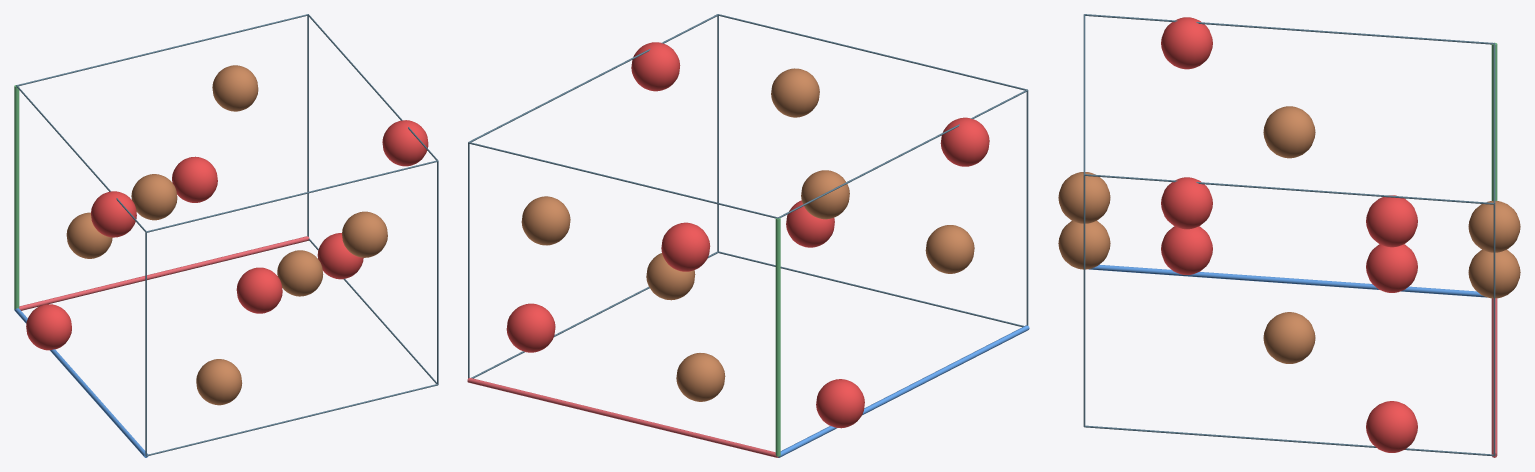
File: chat-tenorite.glb
3 renders of one model, left to right at view 1: azimuth 30°, elevation 25°; view 2: azimuth 150°, elevation 25°; view 3: azimuth 270°, elevation 25°, orthographic. The views are drawn at different scales.
Parts seen in each view (by area): view 1: Cu1 · Cu · 1 (×6), O1 · O · 1 (×6), Ô mạng và các trục a, b, c; view 2: Cu1 · Cu · 1 (×6), O1 · O · 1 (×6), Ô mạng và các trục a, b, c; view 3: O1 · O · 1 (×6), Cu1 · Cu · 1 (×6), Ô mạng và các trục a, b, c.
Part boxes in pixels (box(x1,y1,x2,y2)): Cu1 · Cu · 1 (×6): box(66, 65, 387, 405); O1 · O · 1 (×6): box(26, 120, 428, 350); Ô mạng và các trục a, b, c: box(14, 14, 438, 457); Cu1 · Cu · 1 (×6): box(521, 68, 974, 401); O1 · O · 1 (×6): box(506, 42, 989, 428); Ô mạng và các trục a, b, c: box(467, 14, 1029, 457); O1 · O · 1 (×6): box(1161, 17, 1417, 452); Cu1 · Cu · 1 (×6): box(1058, 106, 1520, 363); Ô mạng và các trục a, b, c: box(1083, 14, 1497, 457).
Bounding box in the file's own units: 5.71 × 3.48 × 5.68.
